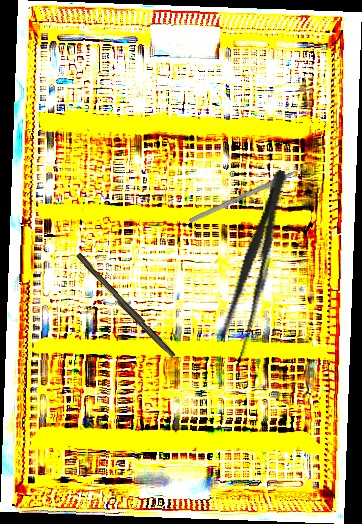Dressing Forceps: (214, 166, 297, 361)
Pusher: (188, 157, 323, 224)
Scalpel Handle: (72, 252, 178, 360)
